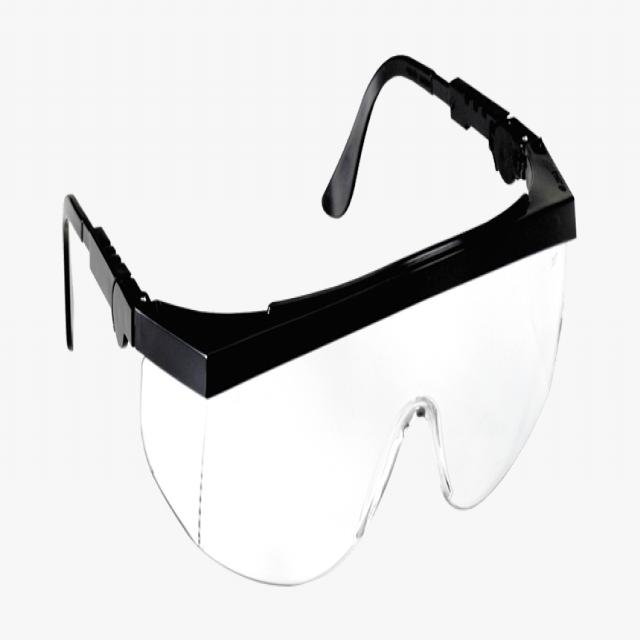Protective Glasses: (36, 43, 599, 621)
